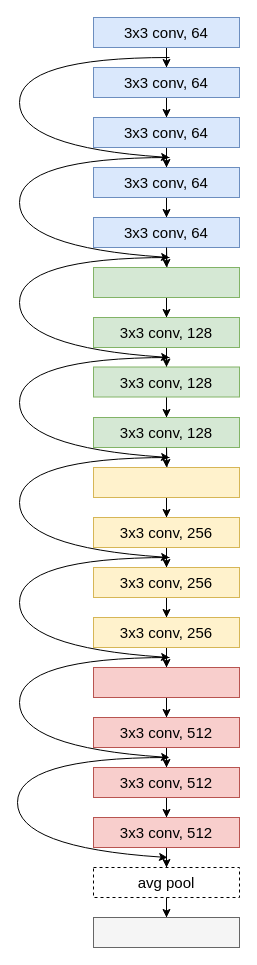
The diagram is 257 pixels wide and 965 high, and some of its shapes have lost their labels. Here are the shapes that lost their labels. From the top down, the centre of each, then its label:
At point 166,282: "3x3 conv, 128, /2".
At point 166,482: "3x3 conv, 256, /2".
At point 166,682: "3x3 conv, 512, /2".
At point 166,932: "fc".
